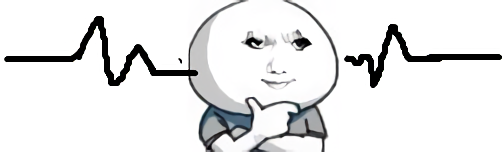dragon: (239, 27, 319, 90)
